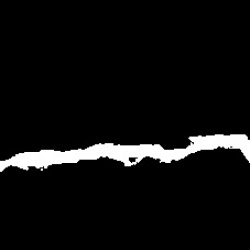crack: (1, 133, 248, 174)
